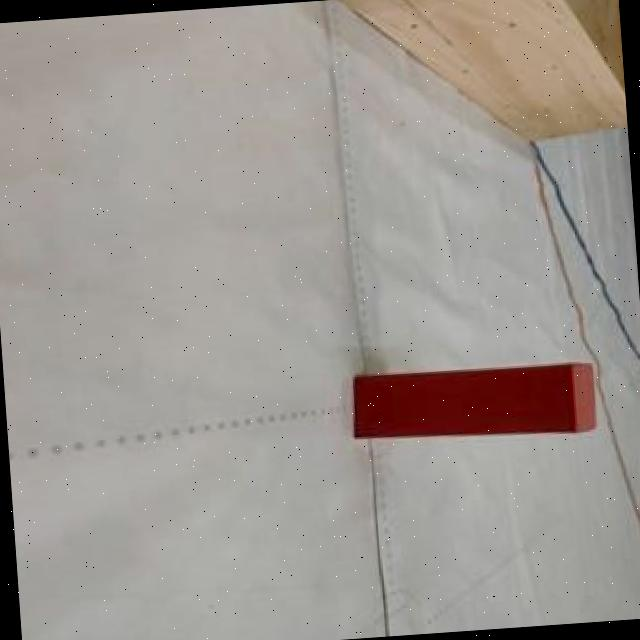redbox: (350, 354, 602, 448)
